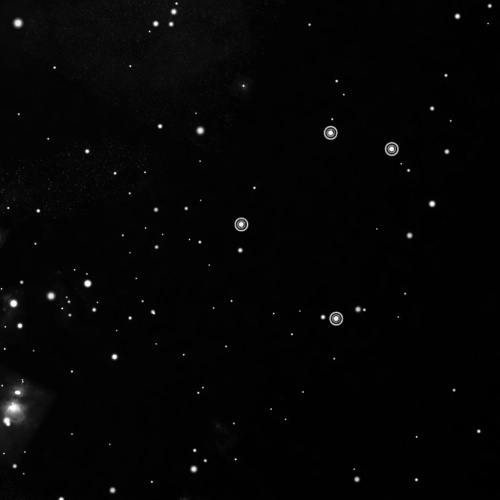coma_berenices: (229, 119, 403, 329)
